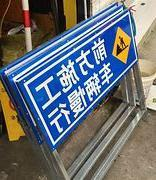sign: (22, 9, 140, 154)
